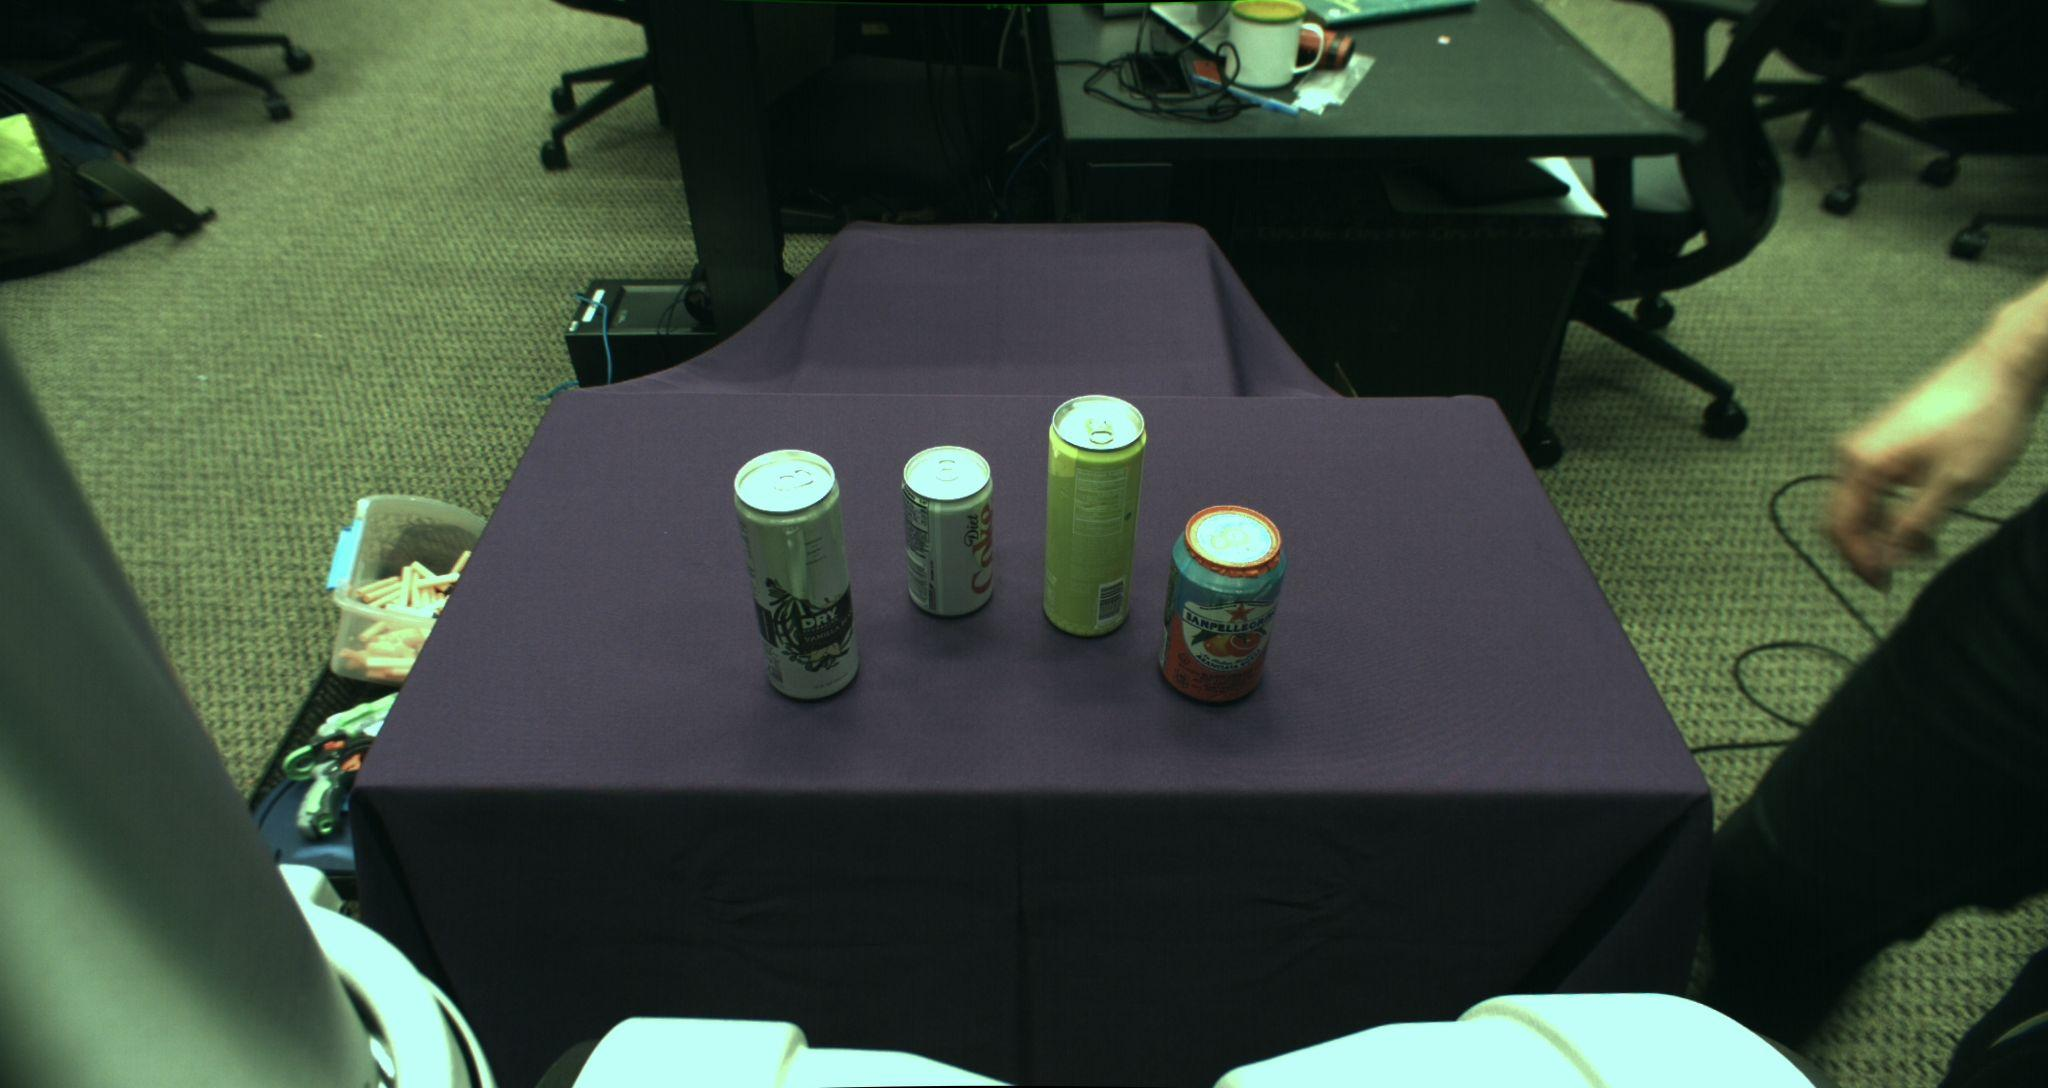can_diet_coke_small: (899, 443, 996, 618)
can_dry_sparkling_vanilla_bean: (731, 447, 861, 700)
can_izze_fusions_lemon_lime: (1043, 396, 1146, 637)
can_sanpellegrino_blood_orange: (1158, 501, 1285, 705)
